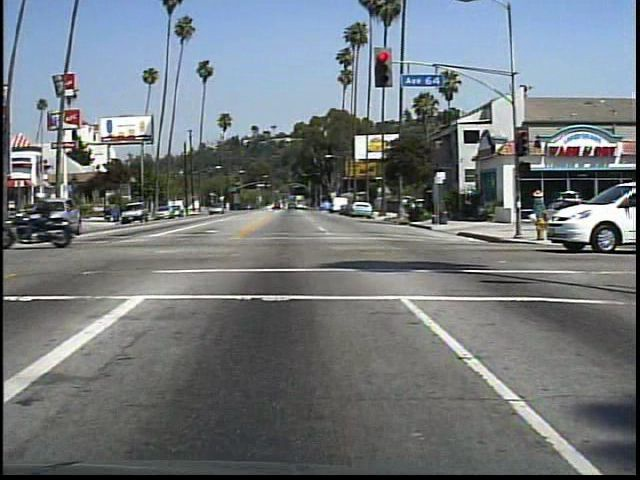person: (33, 189, 70, 242), (526, 186, 551, 221)
